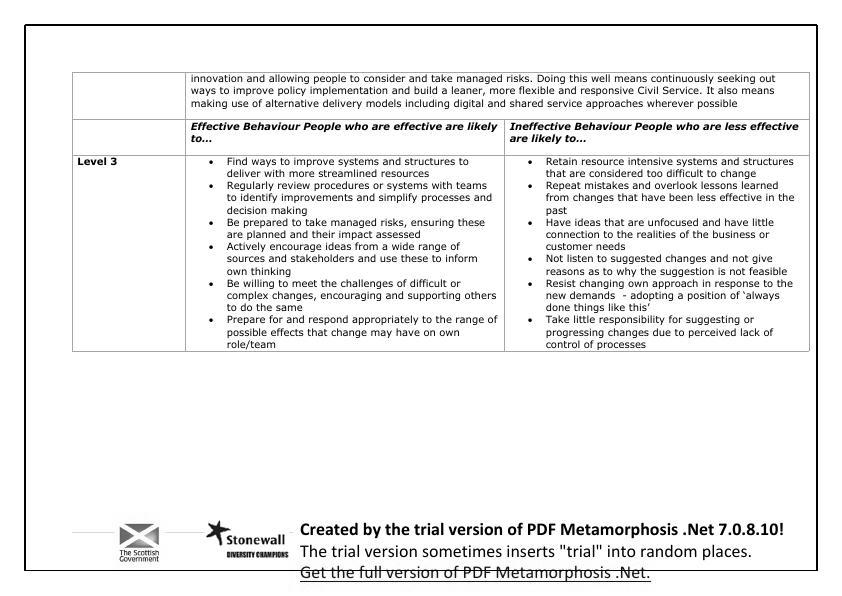table: (69, 66, 813, 356)
